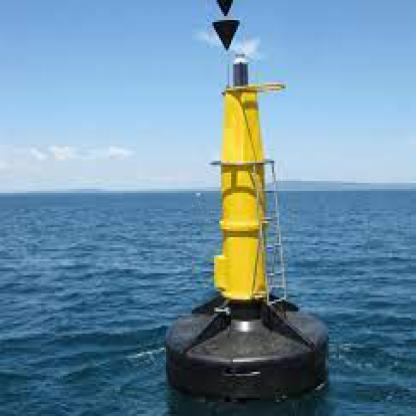buoy: (152, 0, 341, 402)
